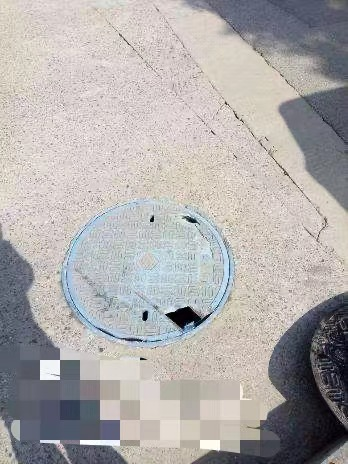well: (63, 199, 232, 344), (266, 280, 348, 463)
